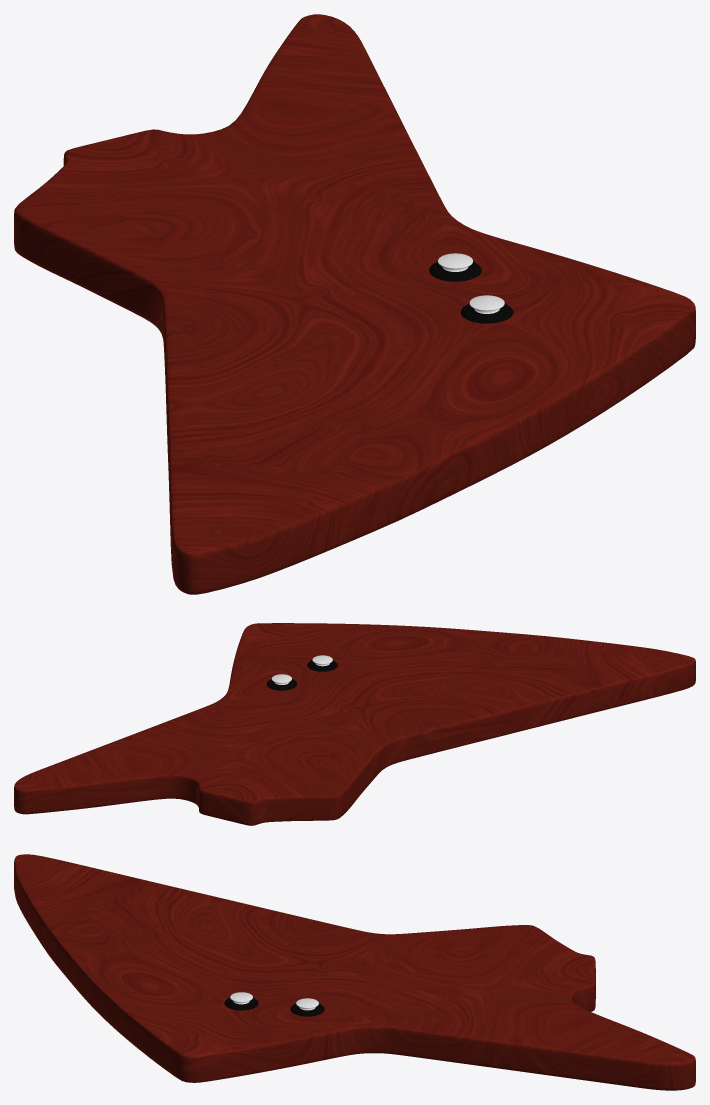
File: Explorer_Caoba.glb
3 views of the same model, one above another, from view 1: azimuth 30°, elevation 25°; view 2: azimuth 150°, elevation 25°; view 3: azimuth 270°, elevation 25° (orthographic). The views are drawn at different scales.
Parts seen in each view (by area): view 1: Explorer_Caoba; view 2: Explorer_Caoba; view 3: Explorer_Caoba.
Boxes of the visible parts, left/top/right/bottom form: Explorer_Caoba: left=14, top=14, right=695, bottom=594; Explorer_Caoba: left=14, top=623, right=695, bottom=825; Explorer_Caoba: left=14, top=854, right=695, bottom=1090.
Size of the model in its own units: 2.26 by 0.1747 by 3.09.
Materials: 3 (1 with a texture image).
